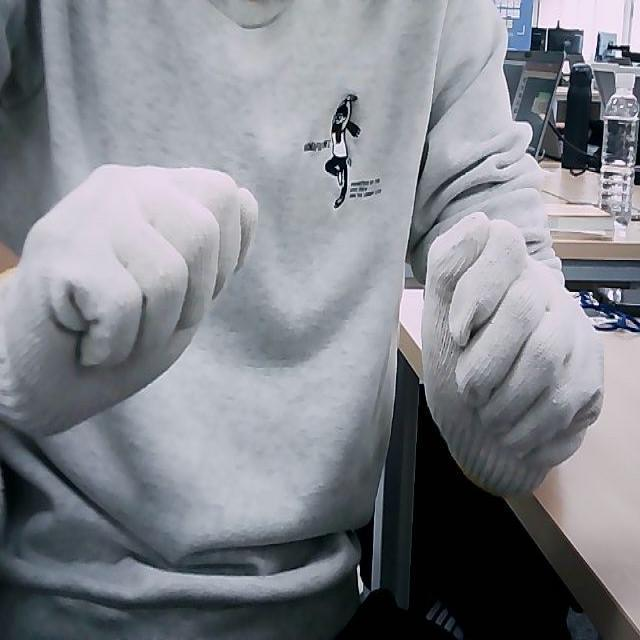gloves: (0, 160, 258, 435), (423, 211, 606, 495)
